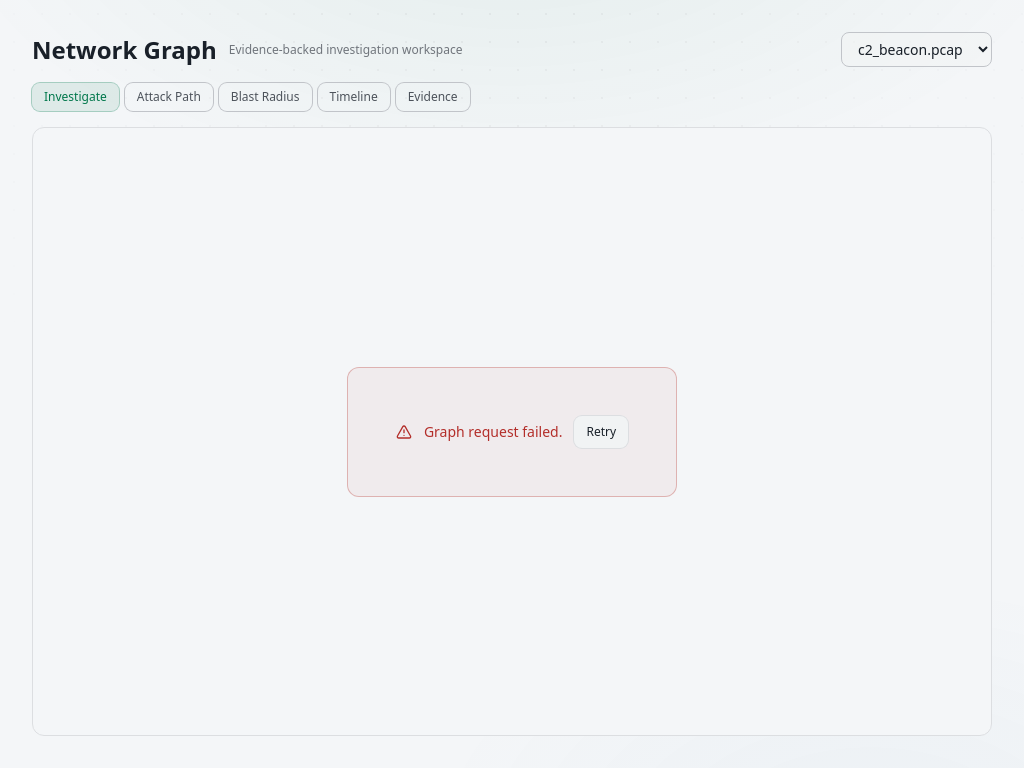
Test: GraphPage — investigation workspace › switches to Blast Radius mode and renders rings + summary
Click the tab "Blast Radius": (265, 97) [219,83,312,111]
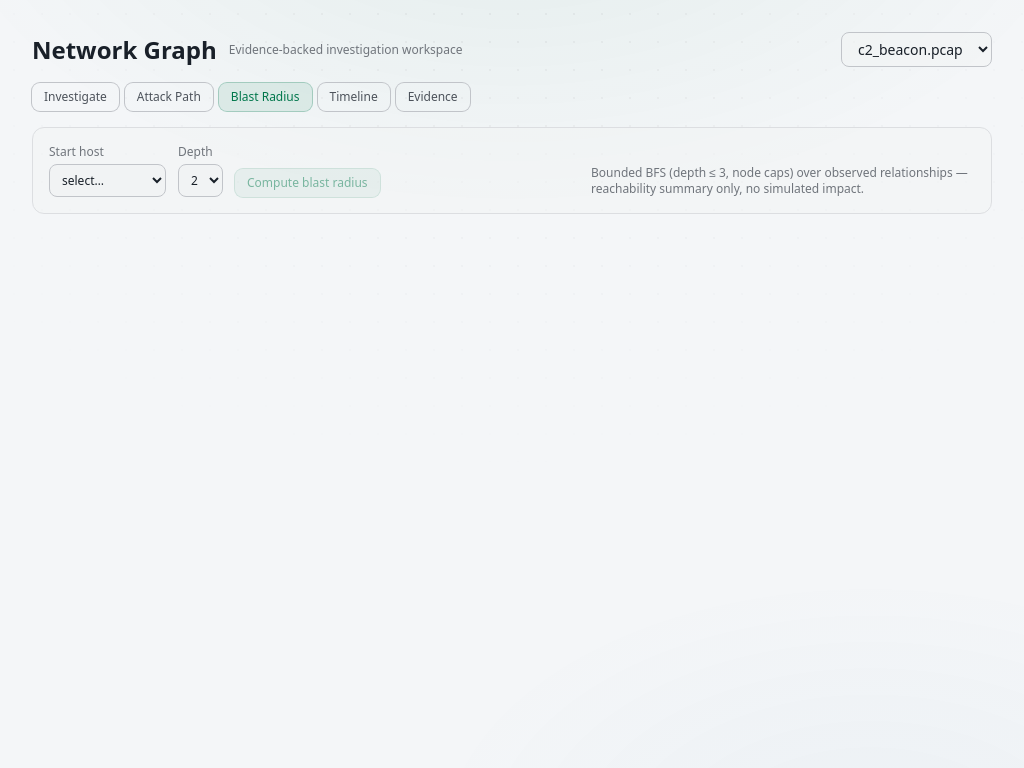
Select "192.168.1.42" in the dropdown named "Blast radius start host": (108, 180) [49,164,166,197]
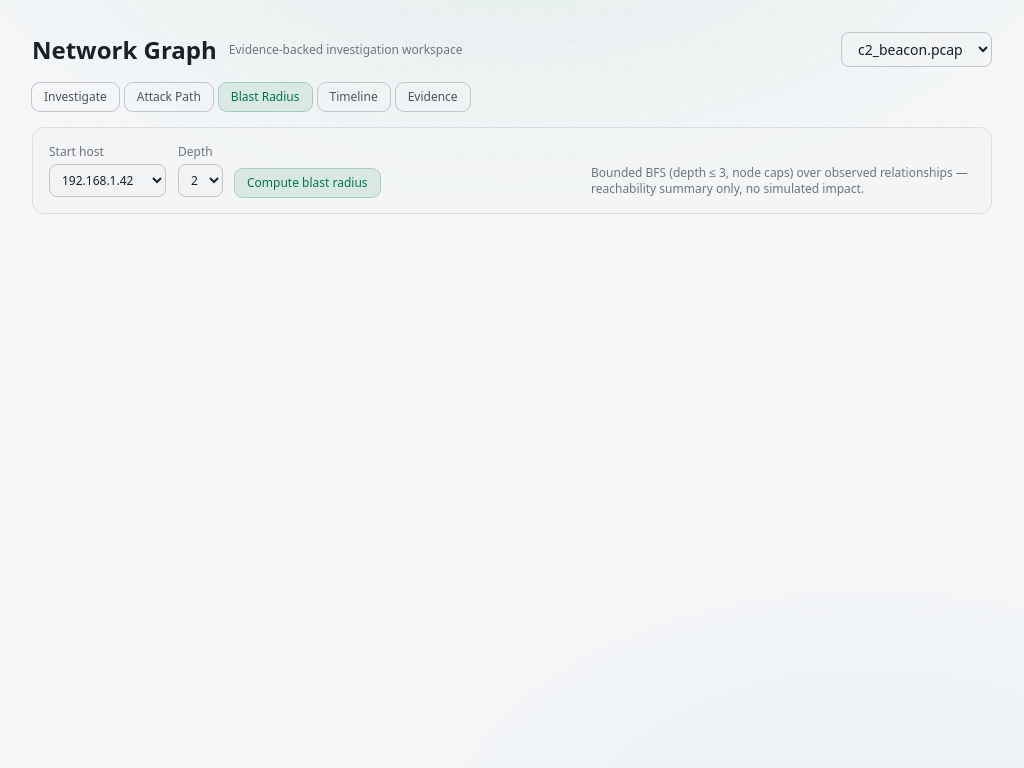
Click the button "Compute blast radius": (307, 183) [235,169,380,197]
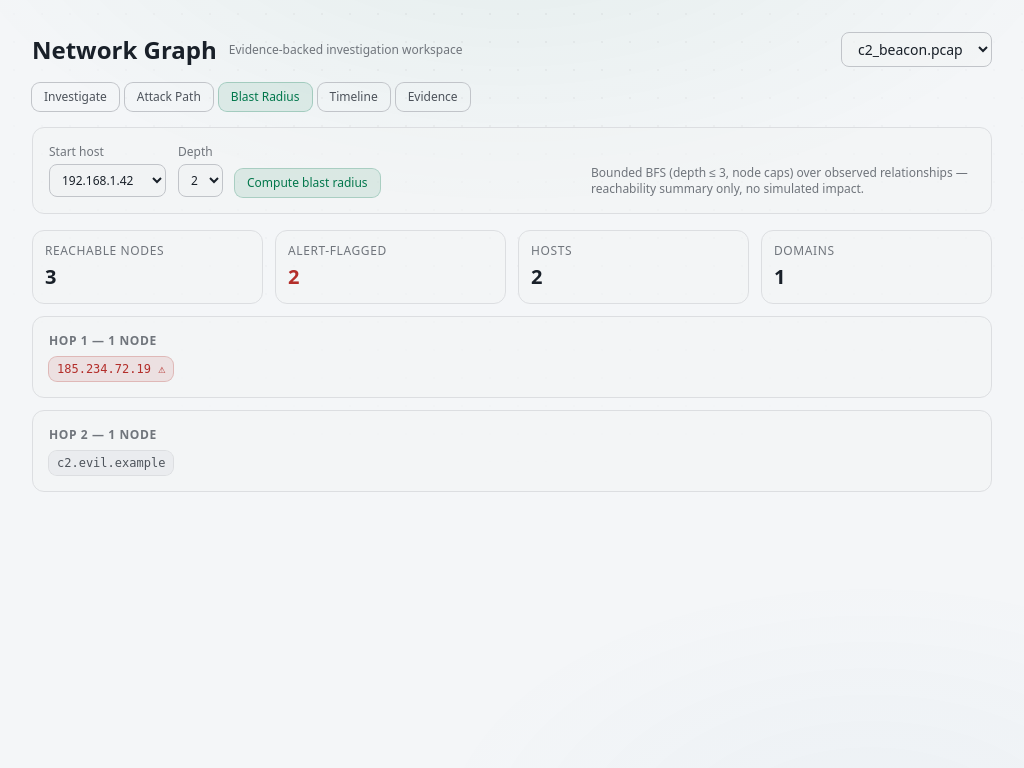
Expected: the text "Alert-flagged" is shown, [288,242,387,259]
Expected: the text "Reachable nodes" is shown, [45,242,164,259]
